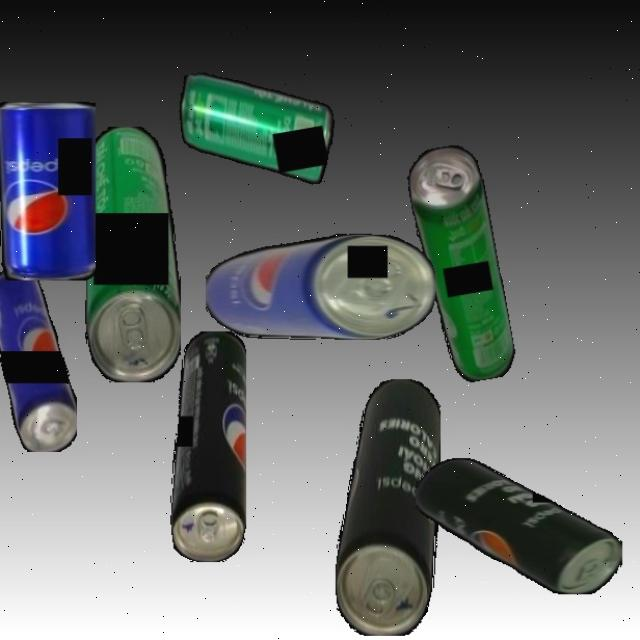debris: (403, 142, 519, 386), (416, 457, 622, 594), (334, 378, 440, 636), (172, 52, 344, 205), (84, 126, 181, 382), (205, 234, 435, 340), (170, 330, 247, 562), (0, 101, 96, 280), (0, 269, 77, 452)
